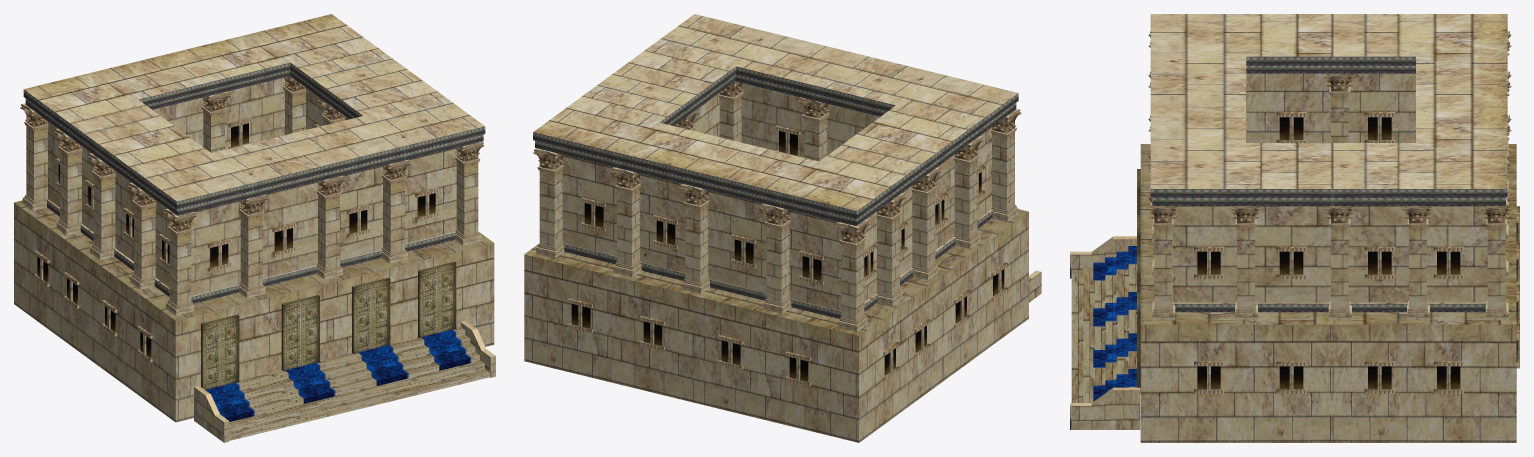
The model's file is sanedrin.dae.
The picture shows the model from 3 angles, left to right: view 1: azimuth 30°, elevation 25°; view 2: azimuth 150°, elevation 25°; view 3: azimuth 270°, elevation 25°; orthographic projection. The views are drawn at different scales.
Visible parts, largest first — view 1: sanedrin; view 2: sanedrin; view 3: sanedrin.
Part boxes in pixels (bbox=[...]): sanedrin: bbox=[14, 14, 495, 442]; sanedrin: bbox=[524, 14, 1041, 442]; sanedrin: bbox=[1070, 14, 1519, 442].
Size of the model in its own units: 20.74 by 21.47 by 13.42.
